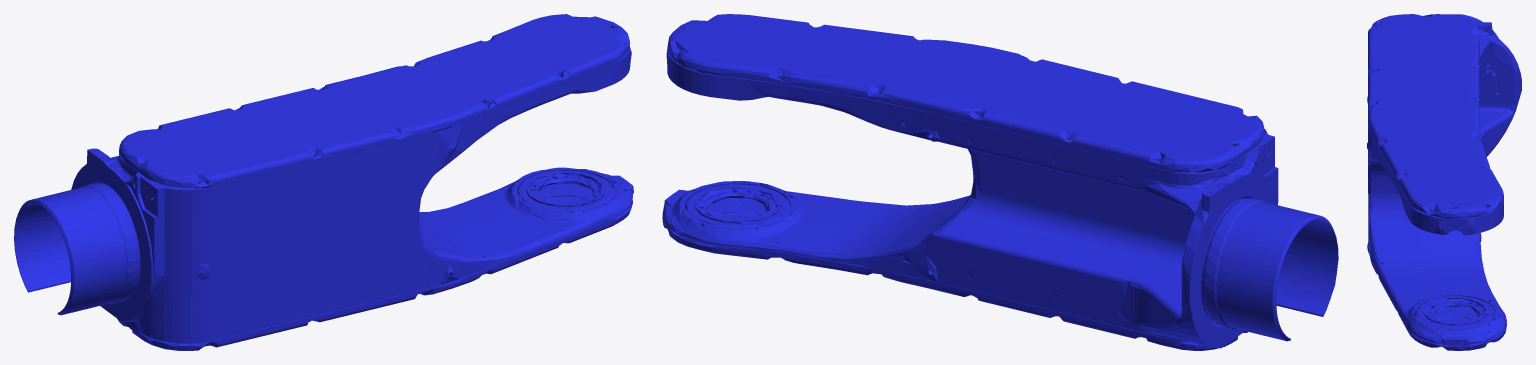
3 renders of one model, left to right at view 1: azimuth 30°, elevation 25°; view 2: azimuth 150°, elevation 25°; view 3: azimuth 270°, elevation 25°, orthographic. The views are drawn at different scales.
Visible parts, largest first — view 1: /Link4/Link4_001-mesh/0; view 2: /Link4/Link4_001-mesh/0; view 3: /Link4/Link4_001-mesh/0.
Part boxes in pixels (x1,y1,x2,y2): /Link4/Link4_001-mesh/0: (14,14,633,350); /Link4/Link4_001-mesh/0: (662,14,1338,350); /Link4/Link4_001-mesh/0: (1367,14,1521,350).
Bounding box in the file's own units: 0.636 × 0.1804 × 0.1806.
